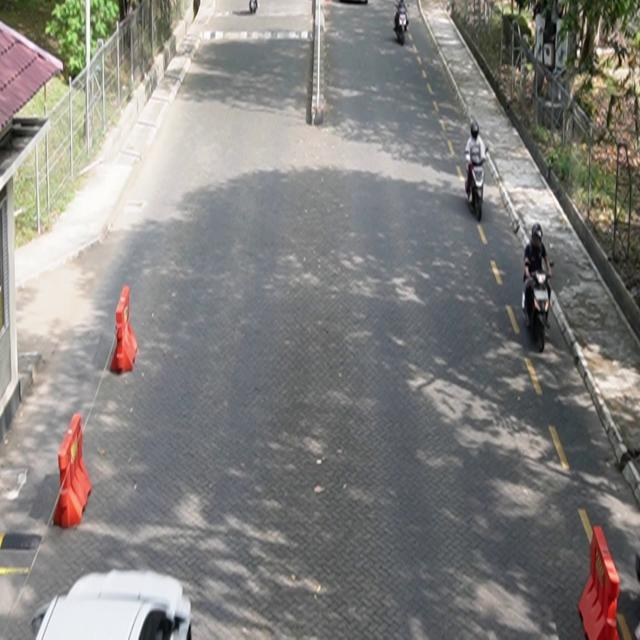car: (31, 570, 193, 640)
